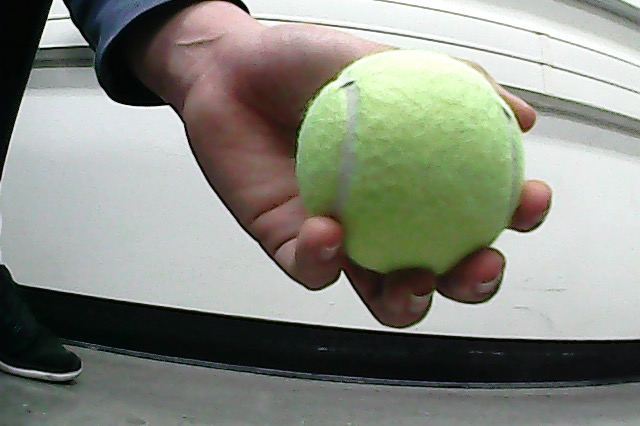ball: (297, 51, 525, 277)
